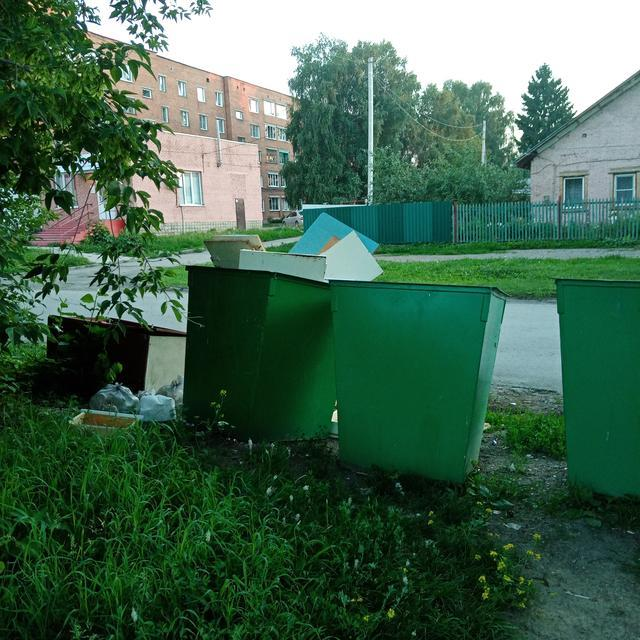Trash_Can_Empty: (331, 282, 504, 481), (555, 279, 639, 497)
Trash_Can_Full: (184, 213, 339, 441)
